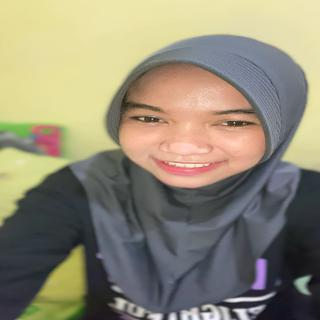Senang: (116, 59, 277, 192)
